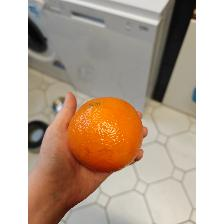Orange: (66, 96, 144, 174)
